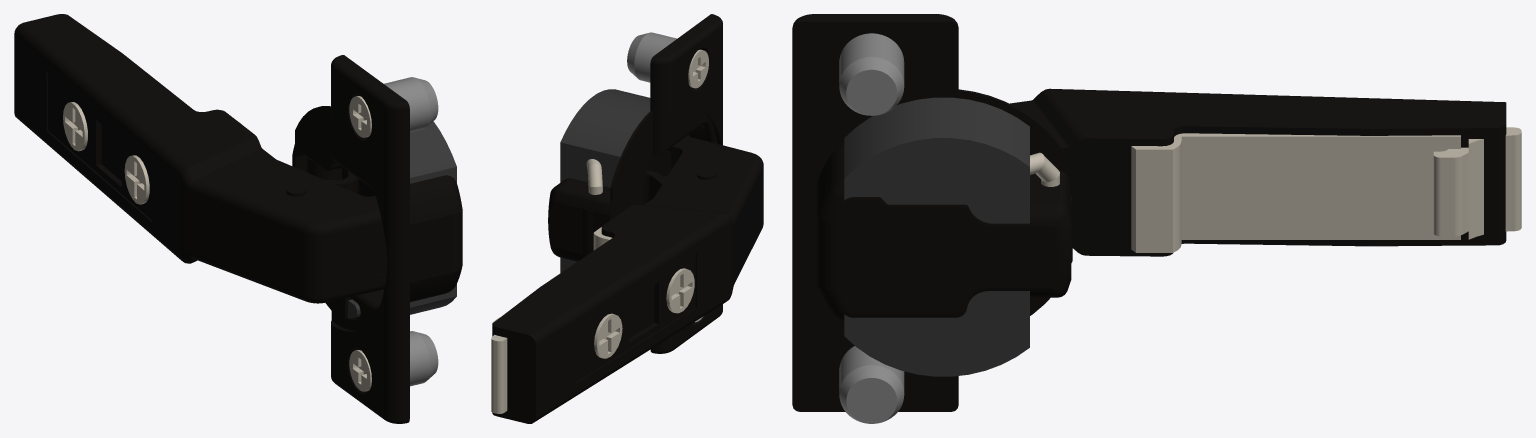
3 views of the same model, side by side, from view 1: azimuth 30°, elevation 25°; view 2: azimuth 150°, elevation 25°; view 3: azimuth 270°, elevation 25° (orthographic). The views are drawn at different scales.
Visible parts, largest first — view 1: bau0016451269-1, bau0015166285-1, bau0059100308-2, bau0059100308-1, bau0015167363-1; view 2: bau0016451269-1, bau0015166285-1, bau0059100308-2, bau0019426112-2, bau0015167363-1, bau0015167707-1; view 3: bau0015166285-1, bau0019426112-2, bau0016451269-1, bau0059100308-2, bau0059100308-1.
Part boxes in pixels (left/top/right/bottom): bau0016451269-1: left=14, top=14, right=387, bottom=303; bau0015166285-1: left=292, top=55, right=462, bottom=423; bau0059100308-2: left=349, top=77, right=438, bottom=137; bau0059100308-1: left=349, top=331, right=438, bottom=391; bau0015167363-1: left=307, top=156, right=358, bottom=194; bau0016451269-1: left=492, top=135, right=763, bottom=423; bau0015166285-1: left=548, top=14, right=722, bottom=353; bau0059100308-2: left=627, top=32, right=708, bottom=88; bau0019426112-2: left=491, top=227, right=611, bottom=413; bau0015167363-1: left=583, top=170, right=667, bottom=255; bau0015167707-1: left=646, top=151, right=671, bottom=176; bau0015166285-1: left=792, top=14, right=1071, bottom=411; bau0019426112-2: left=1131, top=127, right=1521, bottom=252; bau0016451269-1: left=1010, top=88, right=1506, bottom=256; bau0059100308-2: left=839, top=33, right=904, bottom=115; bau0059100308-1: left=839, top=346, right=904, bottom=423.
Size of the model in its own units: 35.78 by 57 by 96.5.
